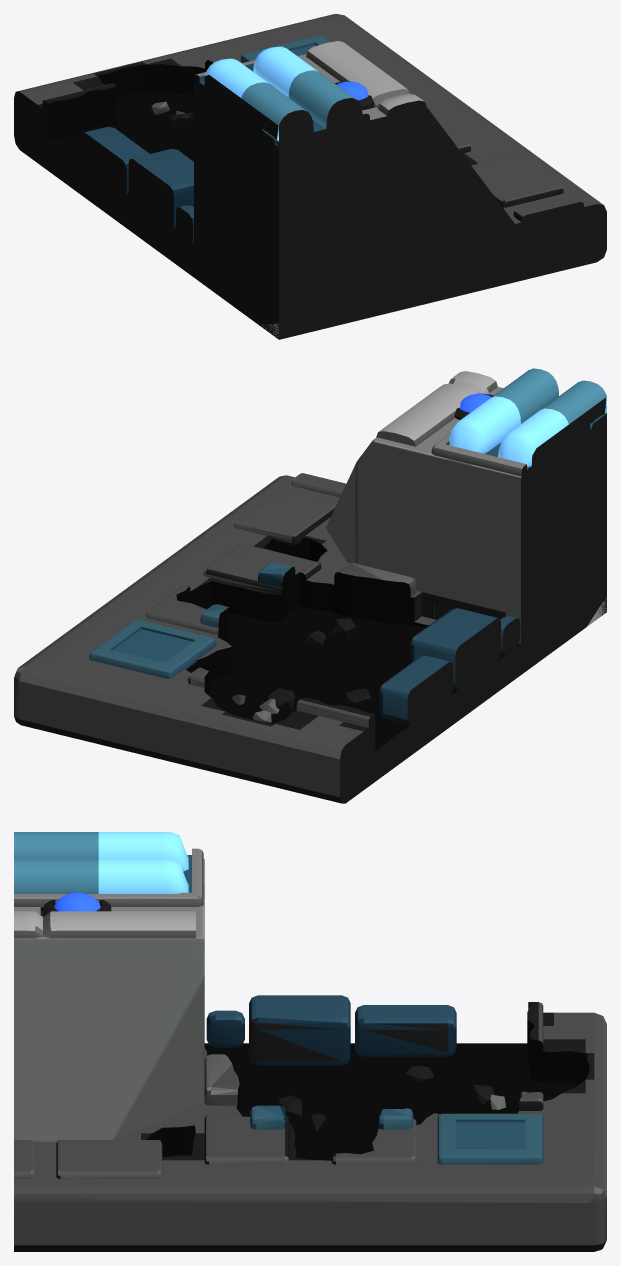
File: ice_bunker_tr_wreck.glb
3 renders of one model, top to bottom at view 1: azimuth 30°, elevation 25°; view 2: azimuth 150°, elevation 25°; view 3: azimuth 270°, elevation 25°, orthographic. The views are drawn at different scales.
Parts seen in each view (by area): view 1: ice_bunker_tr_wreck; view 2: ice_bunker_tr_wreck; view 3: ice_bunker_tr_wreck.
Boxes of the visible parts, x1,y1,x2,y2 form: ice_bunker_tr_wreck: (14, 14, 606, 339); ice_bunker_tr_wreck: (14, 368, 606, 803); ice_bunker_tr_wreck: (14, 832, 606, 1251).
Size of the model in its own units: 20 by 13.12 by 28.
